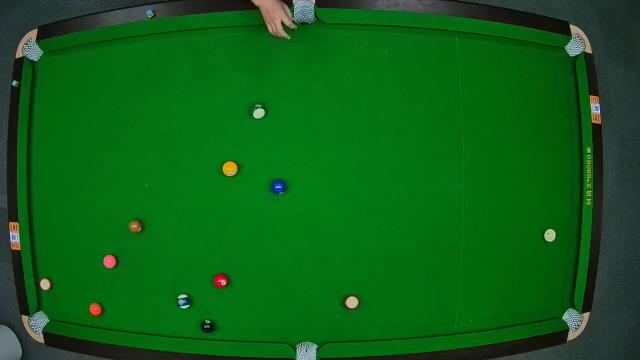bag1: (21, 38, 41, 62)
bag2: (293, 0, 316, 24)
bag3: (566, 34, 588, 57)
bag4: (28, 310, 48, 332)
bag5: (296, 338, 318, 360)
bag6: (562, 309, 582, 331)
ball0: (544, 228, 556, 244)
ball1: (222, 161, 238, 177)
ball10: (176, 294, 192, 310)
ball11: (344, 294, 360, 310)
ball12: (39, 277, 53, 291)
ball14: (250, 103, 266, 121)
ball2: (270, 178, 286, 196)
ball3: (215, 272, 229, 288)
ball4: (102, 254, 118, 270)
ball5: (88, 302, 102, 318)
ball7: (128, 218, 144, 234)
ball8: (202, 318, 216, 334)
